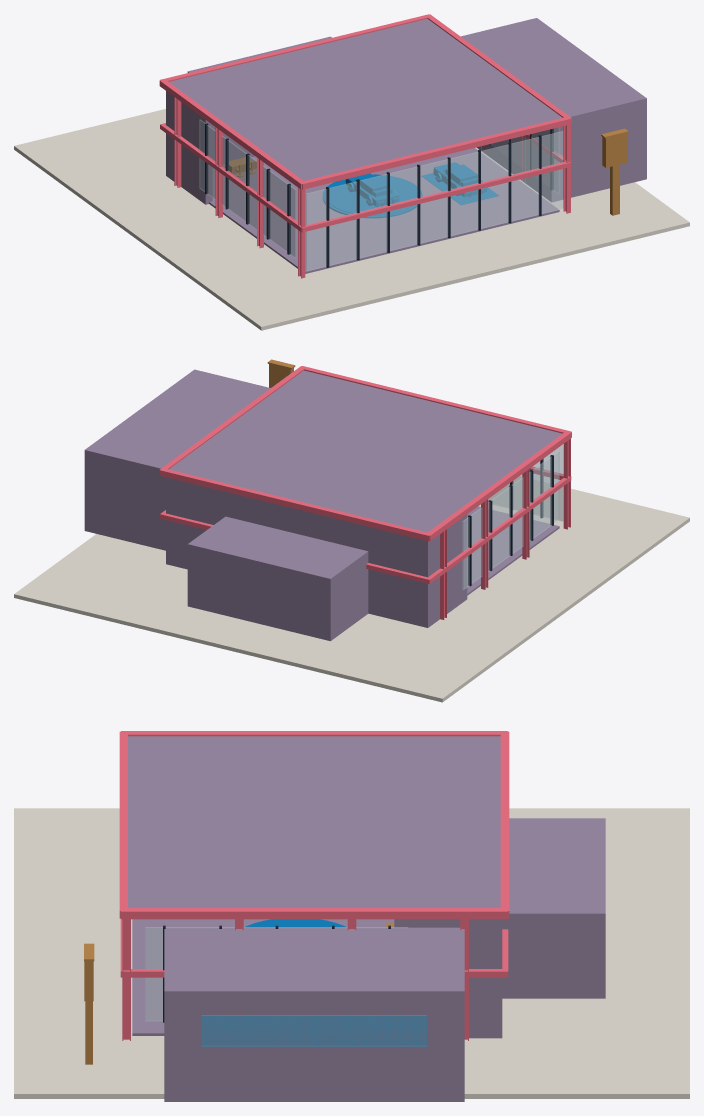
The model's file is hq_14_marketing_l2.glb.
3 views of the same model, one above another, from view 1: azimuth 30°, elevation 25°; view 2: azimuth 150°, elevation 25°; view 3: azimuth 270°, elevation 25° (orthographic). The views are drawn at different scales.
Parts seen in each view (by area): view 1: GEO_Marketing_Showroom_Brick_Halls, GEO_Marketing_Foundation_Plinth, GEO_Marketing_Showroom_Glass_Curtain, GEO_Marketing_Heritage_Vault_Brick, GEO_Marketing_Structural_Columns, GEO_Marketing_Showroom_Glass_Mullions, GEO_Marketing_Turntable_Display_Car, GEO_Marketing_Customer_Lounge, GEO_Marketing_Showroom_Floor_Car; view 2: GEO_Marketing_Showroom_Brick_Halls, GEO_Marketing_Foundation_Plinth, GEO_Marketing_Heritage_Vault_Brick, GEO_Marketing_Structural_Columns, GEO_Marketing_Showroom_Glass_Curtain, GEO_Marketing_Showroom_Glass_Mullions; view 3: GEO_Marketing_Showroom_Brick_Halls, GEO_Marketing_Foundation_Plinth, GEO_Marketing_Heritage_Vault_Brick, GEO_Marketing_Structural_Columns, GEO_Marketing_Vault_Ribbon_Glass, GEO_Marketing_Showroom_Glass_Curtain, GEO_Marketing_Customer_Lounge, GEO_Marketing_Turntable_Display_Car.
Part boxes in pixels (<box>): GEO_Marketing_Showroom_Brick_Halls: <box>166,19,562,273</box>; GEO_Marketing_Foundation_Plinth: <box>14,109,689,330</box>; GEO_Marketing_Showroom_Glass_Curtain: <box>199,119,563,270</box>; GEO_Marketing_Heritage_Vault_Brick: <box>461,18,646,202</box>; GEO_Marketing_Structural_Columns: <box>159,14,571,278</box>; GEO_Marketing_Showroom_Glass_Mullions: <box>205,123,553,267</box>; GEO_Marketing_Turntable_Display_Car: <box>322,173,422,218</box>; GEO_Marketing_Customer_Lounge: <box>225,128,628,215</box>; GEO_Marketing_Showroom_Floor_Car: <box>421,162,498,204</box>; GEO_Marketing_Showroom_Brick_Halls: <box>166,370,562,641</box>; GEO_Marketing_Foundation_Plinth: <box>14,476,689,702</box>; GEO_Marketing_Heritage_Vault_Brick: <box>84,369,270,550</box>; GEO_Marketing_Structural_Columns: <box>159,366,571,619</box>; GEO_Marketing_Showroom_Glass_Curtain: <box>462,444,563,589</box>; GEO_Marketing_Showroom_Glass_Mullions: <box>468,455,553,586</box>; GEO_Marketing_Showroom_Brick_Halls: <box>128,736,605,1038</box>; GEO_Marketing_Foundation_Plinth: <box>14,808,689,1098</box>; GEO_Marketing_Heritage_Vault_Brick: <box>164,927,464,1101</box>; GEO_Marketing_Structural_Columns: <box>119,731,509,1040</box>; GEO_Marketing_Vault_Ribbon_Glass: <box>201,1015,426,1046</box>; GEO_Marketing_Showroom_Glass_Curtain: <box>145,927,407,1021</box>; GEO_Marketing_Customer_Lounge: <box>84,922,392,1064</box>; GEO_Marketing_Turntable_Display_Car: <box>244,919,346,927</box>.
Size of what is drawn, in the model's own units: 37.1 by 7.93 by 36.
